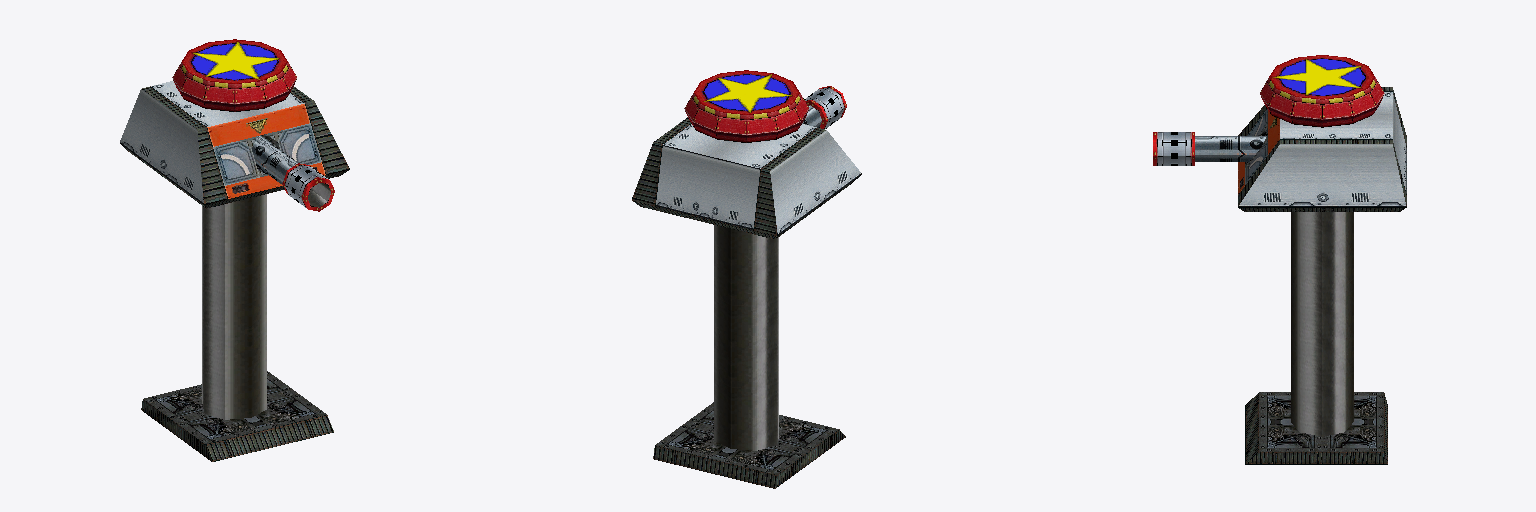
3 views of the same model, side by side, from view 1: azimuth 30°, elevation 25°; view 2: azimuth 150°, elevation 25°; view 3: azimuth 270°, elevation 25° (orthographic).
Size of the model in its own units: 6 by 14 by 9.
Materials: 9 (9 with a texture image).